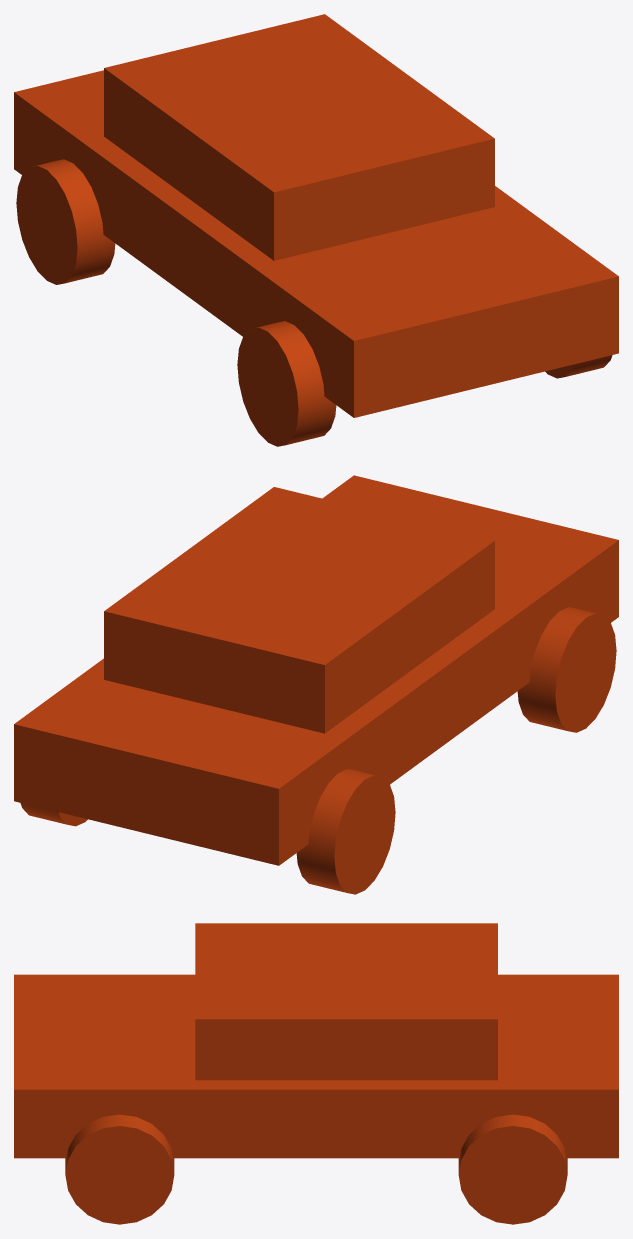
Rendered from car-loose-wheels.glb.
3 renders of one model, top to bottom at view 1: azimuth 30°, elevation 25°; view 2: azimuth 150°, elevation 25°; view 3: azimuth 270°, elevation 25°, orthographic. The views are drawn at different scales.
Parts seen in each view (by area): view 1: Car; view 2: Car; view 3: Car.
Part boxes in pixels (bbox=[...]): Car: bbox=[14, 14, 618, 446]; Car: bbox=[14, 475, 618, 894]; Car: bbox=[14, 923, 618, 1224].
Size of the model in its own units: 2.16 by 1.35 by 4.
